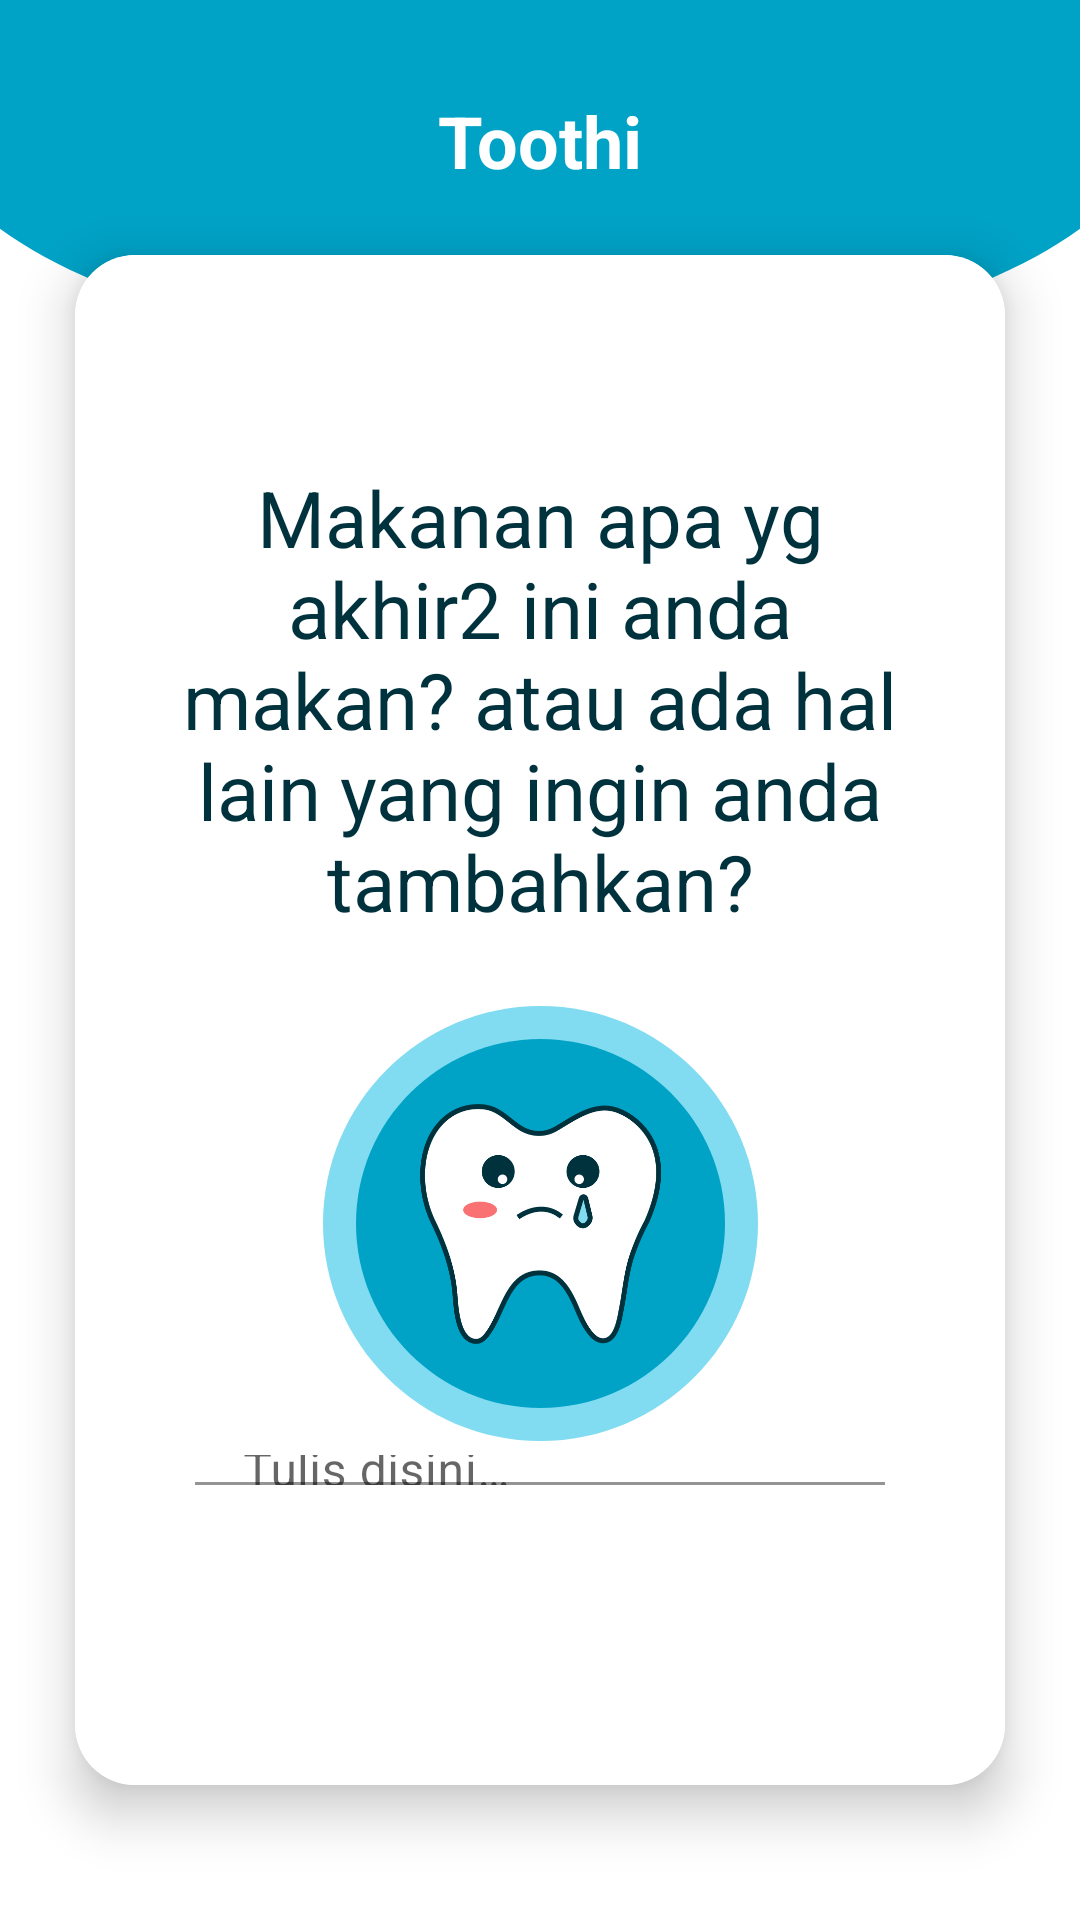

Icons on this 1080×1920 Android screen, each with the point to tap as [x,y]:
Toothi: [540,1224]
